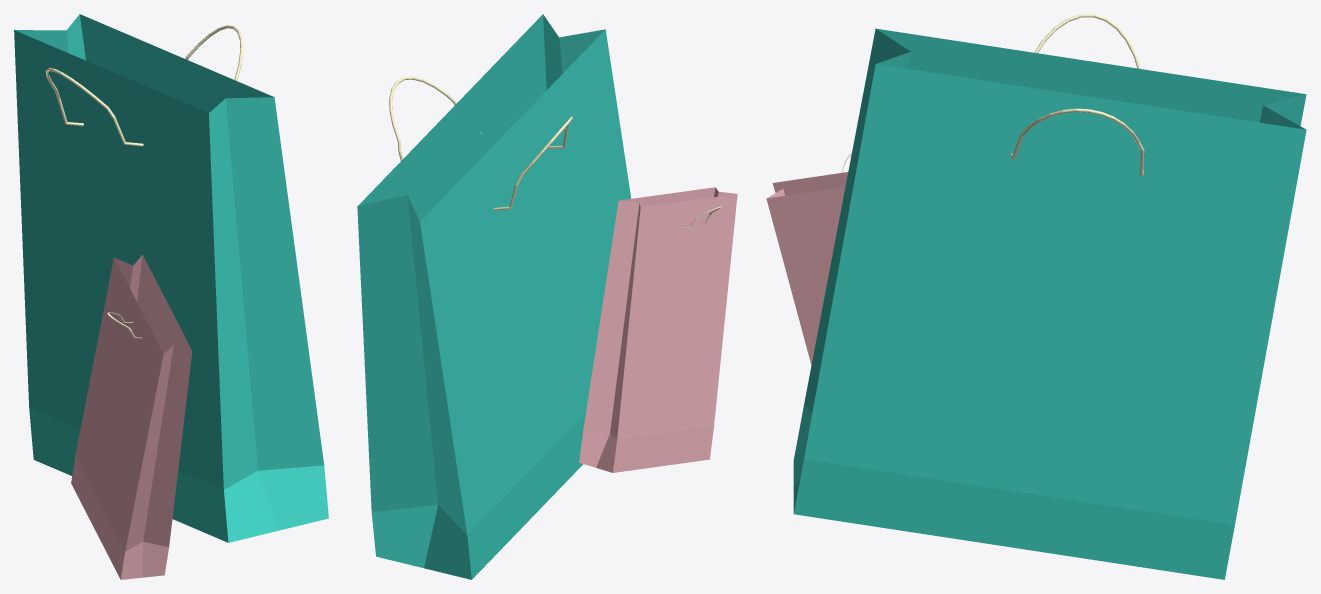
File: Bags.fbx
3 renders of one model, left to right at view 1: azimuth 30°, elevation 25°; view 2: azimuth 150°, elevation 25°; view 3: azimuth 270°, elevation 25°, orthographic. The views are drawn at different scales.
Visible parts, largest first — view 1: Cube, Cube.001, Circle, Circle.001; view 2: Cube, Cube.001, Circle, Circle.001; view 3: Cube, Cube.001, Circle.001.
Boxes of the visible parts, left/top/right/bottom form: Cube: left=14, top=14, right=328, bottom=542; Cube.001: left=71, top=254, right=192, bottom=579; Circle: left=45, top=67, right=143, bottom=146; Circle.001: left=185, top=25, right=243, bottom=80; Cube: left=357, top=14, right=631, bottom=579; Cube.001: left=579, top=187, right=737, bottom=472; Circle: left=493, top=116, right=572, bottom=210; Circle.001: left=389, top=76, right=482, bottom=160; Cube: left=793, top=28, right=1306, bottom=579; Cube.001: left=766, top=172, right=848, bottom=365; Circle.001: left=1010, top=108, right=1144, bottom=176.
Size of the model in its own units: 277 by 516 by 498.
